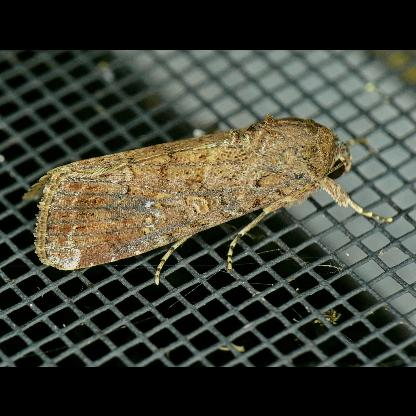Fall Armyworm Moth: (20, 109, 394, 287)
